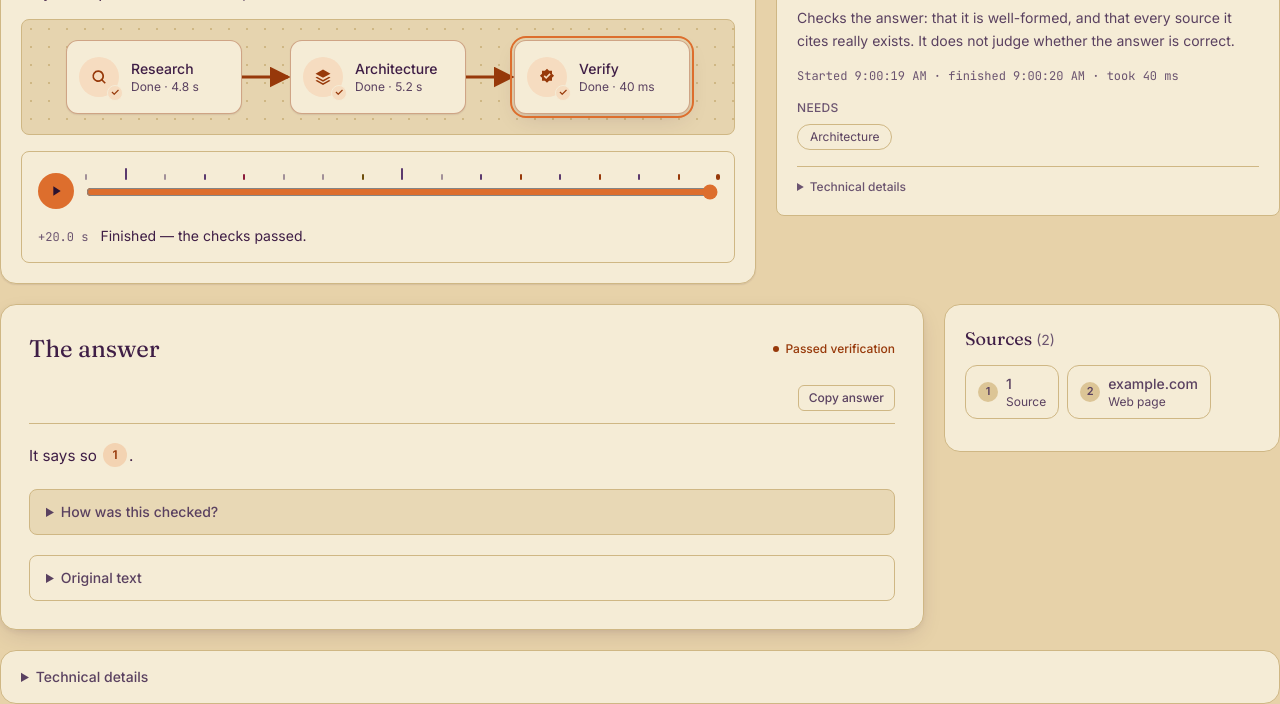
Test: MissionCockpit — sources a step recorded that EIDOS cannot place › still lists one the answer itself cites, because its numbered chip has to open something
The width and height of the screenshot is (1280, 704).
(page scrolled)
Expected: the heading "Sources (2)" is shown, top-left (965, 327), bottom-right (1055, 350)
What coordinates should you click on to do the following:
click the button named "Source 1"
I would click on:
 (115, 455)
Its box is top-left (103, 443), bottom-right (127, 467).
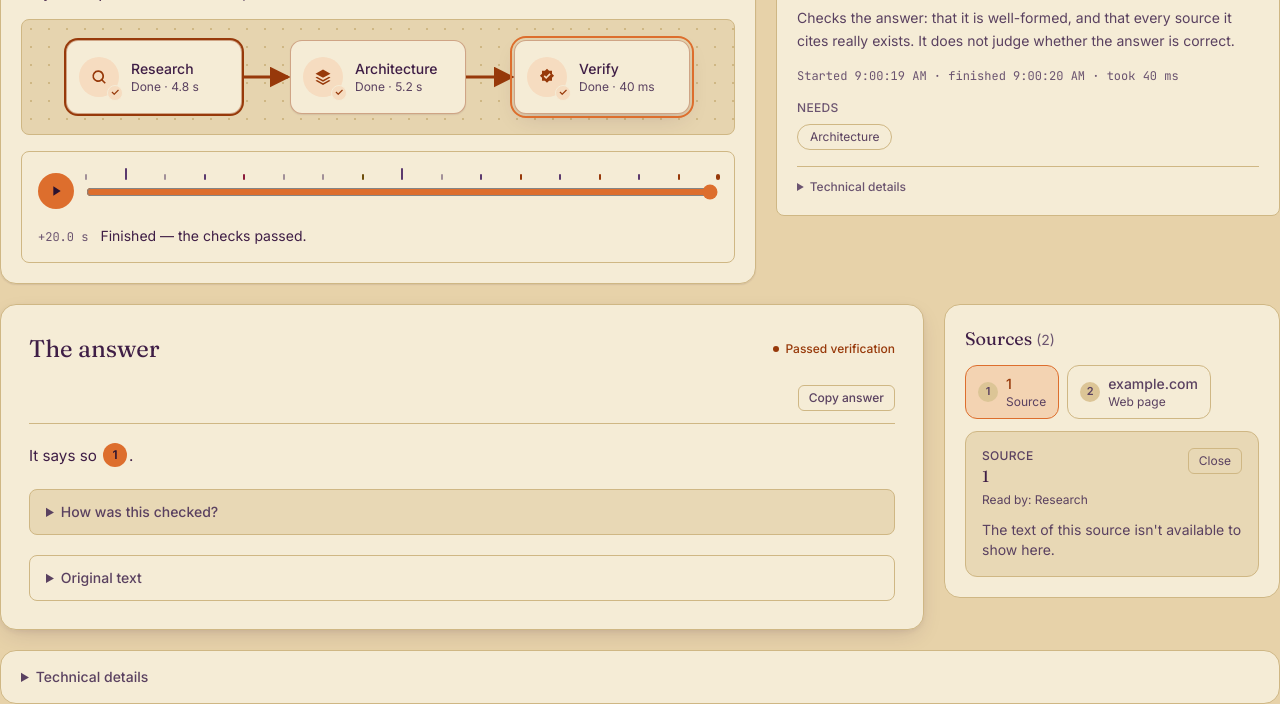
Expected: the text "The text of this source isn't available to show here." is shown, top-left (982, 520), bottom-right (1242, 560)
